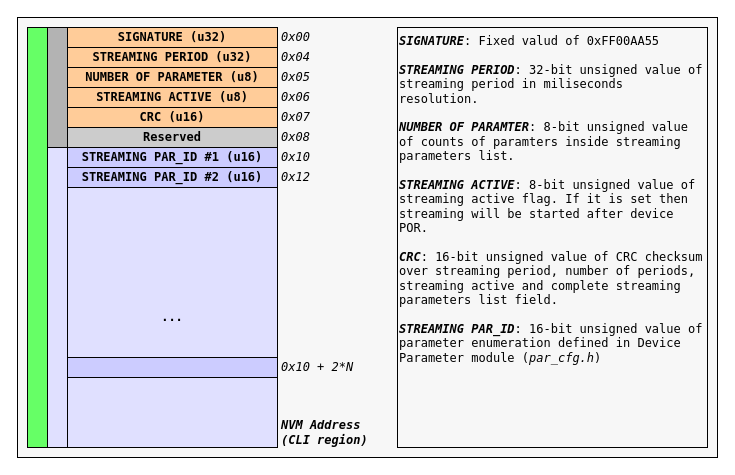
Some shapes in this 735 by 475 pixel diagram are drawn without their labels. The shapes that lost their labels are listed below. From the top down, each one's centre as x and y in pixels, then its label:
At pixel 57 87: "HEADER".
At pixel 37 237: "CLI NVM SPACE".
At pixel 57 297: "STREAMING PARAMETERS LIST".
At pixel 172 367: "STREAMING PAR_ID #N (u16)".
